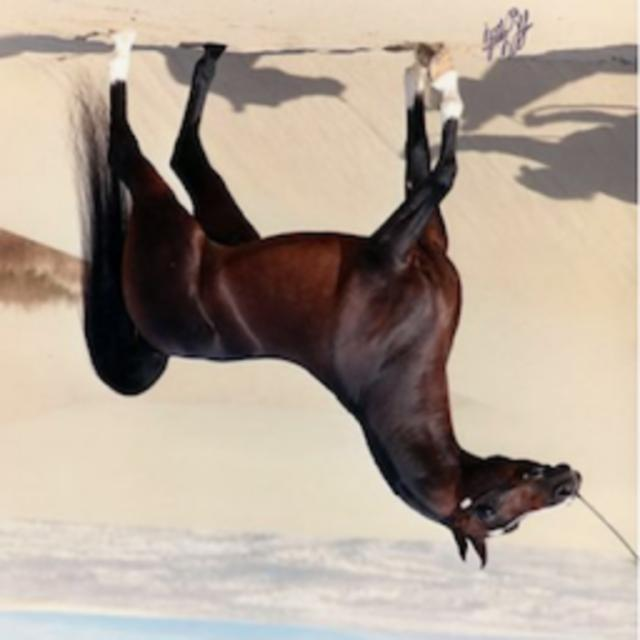Horse: (55, 27, 590, 575)
